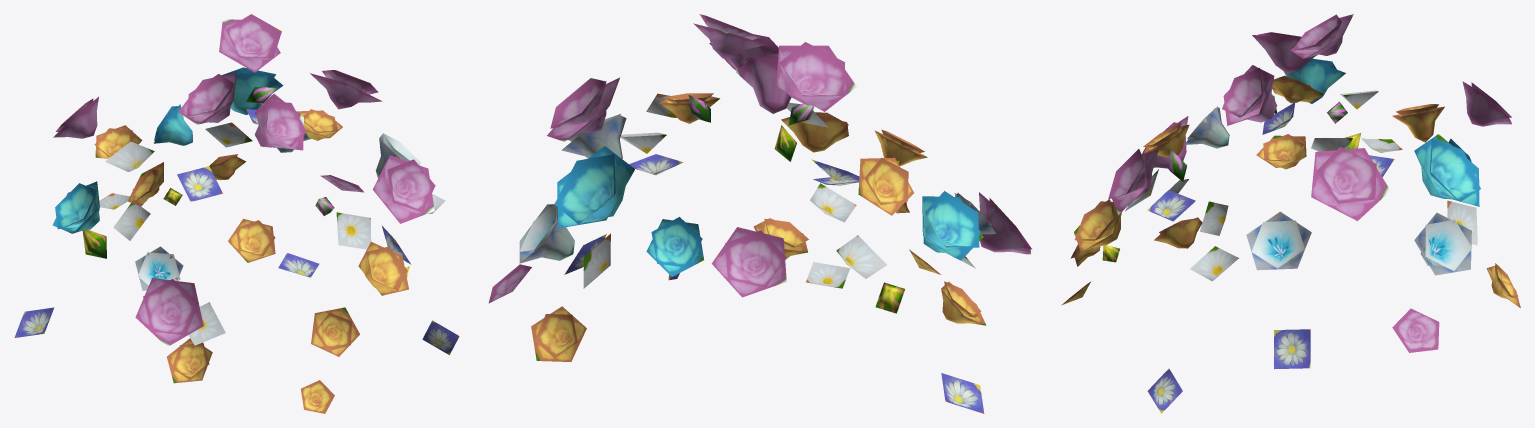
Rendered from Homeworld_Exterior_Common_Flower_Decoration_Green_01_B_Lod0.fbx.
The picture shows the model from 3 angles, left to right: view 1: azimuth 30°, elevation 25°; view 2: azimuth 150°, elevation 25°; view 3: azimuth 270°, elevation 25°; orthographic projection. The views are drawn at different scales.
Parts seen in each view (by area): view 1: Homeworld_Exterior_Common_Flower_Decoration_Green_01_B_Lod0; view 2: Homeworld_Exterior_Common_Flower_Decoration_Green_01_B_Lod0; view 3: Homeworld_Exterior_Common_Flower_Decoration_Green_01_B_Lod0.
Boxes of the visible parts, x1,y1,x2,y2 form: Homeworld_Exterior_Common_Flower_Decoration_Green_01_B_Lod0: [14, 14, 459, 413]; Homeworld_Exterior_Common_Flower_Decoration_Green_01_B_Lod0: [488, 14, 1032, 413]; Homeworld_Exterior_Common_Flower_Decoration_Green_01_B_Lod0: [1061, 14, 1520, 413].
Bounding box in the file's own units: 1.3 × 1.02 × 1.28.
